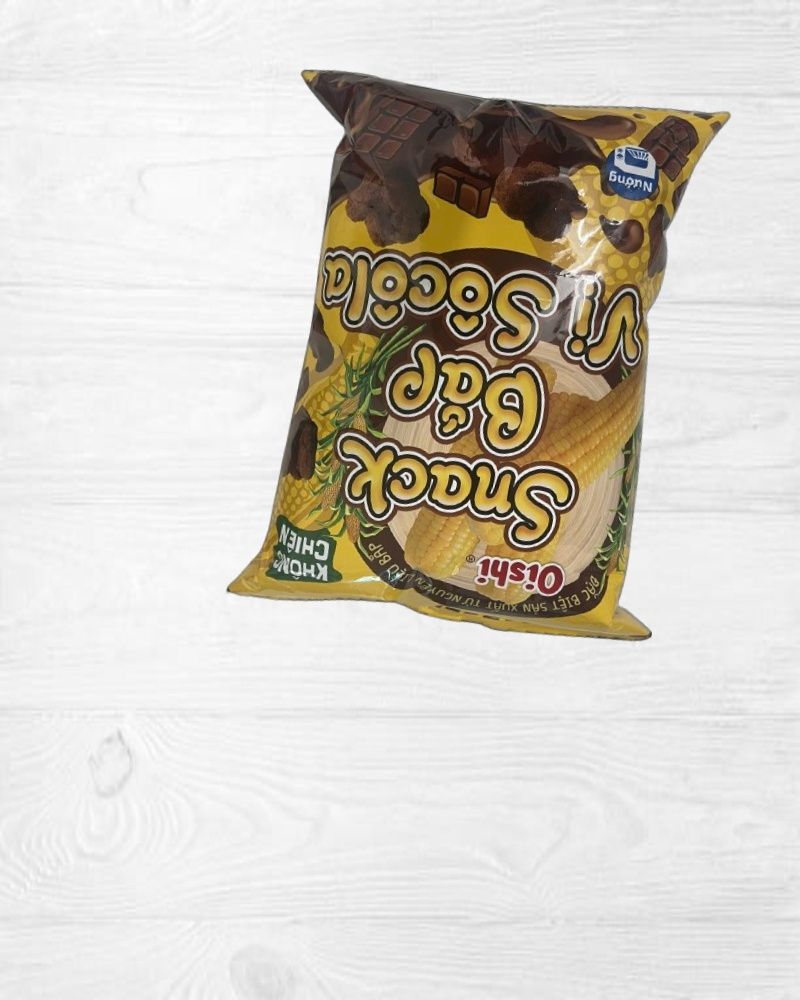Snack socola: (213, 42, 743, 666)
